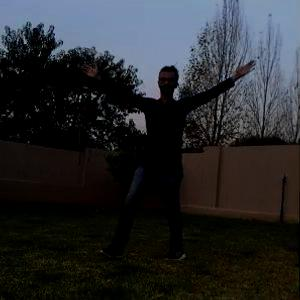takeoff: (111, 74, 275, 262)
